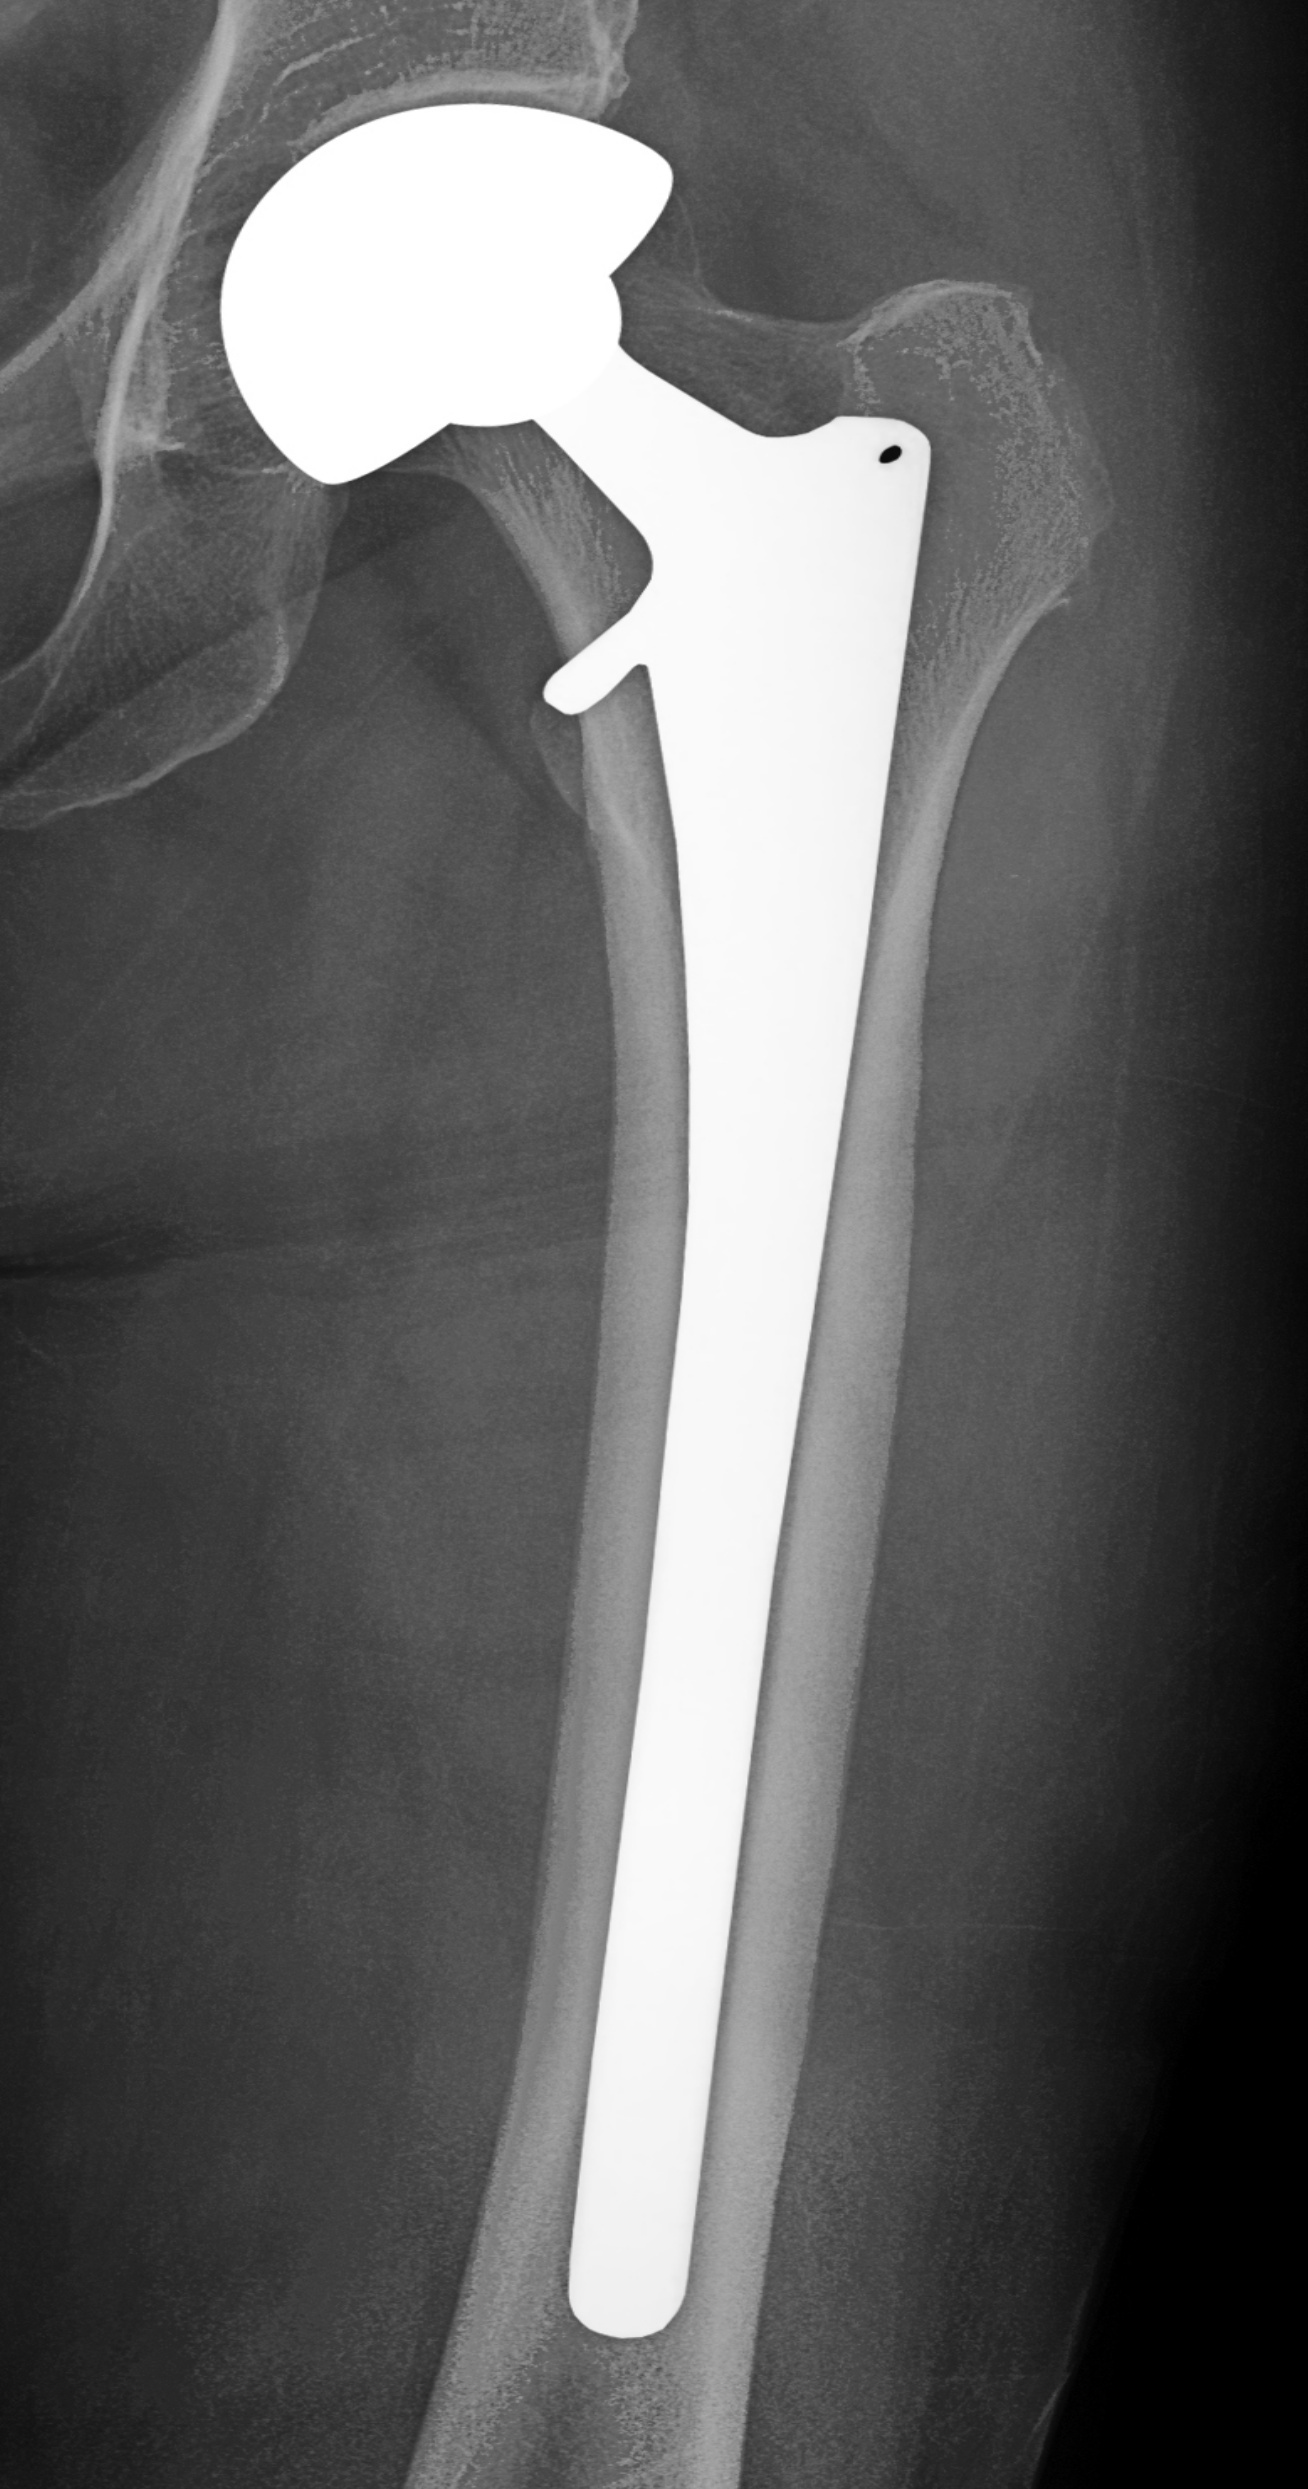Hip-Bias-Zimmer: (183, 92, 939, 2349)
